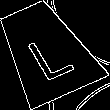L_NW: (17, 22, 75, 80)
